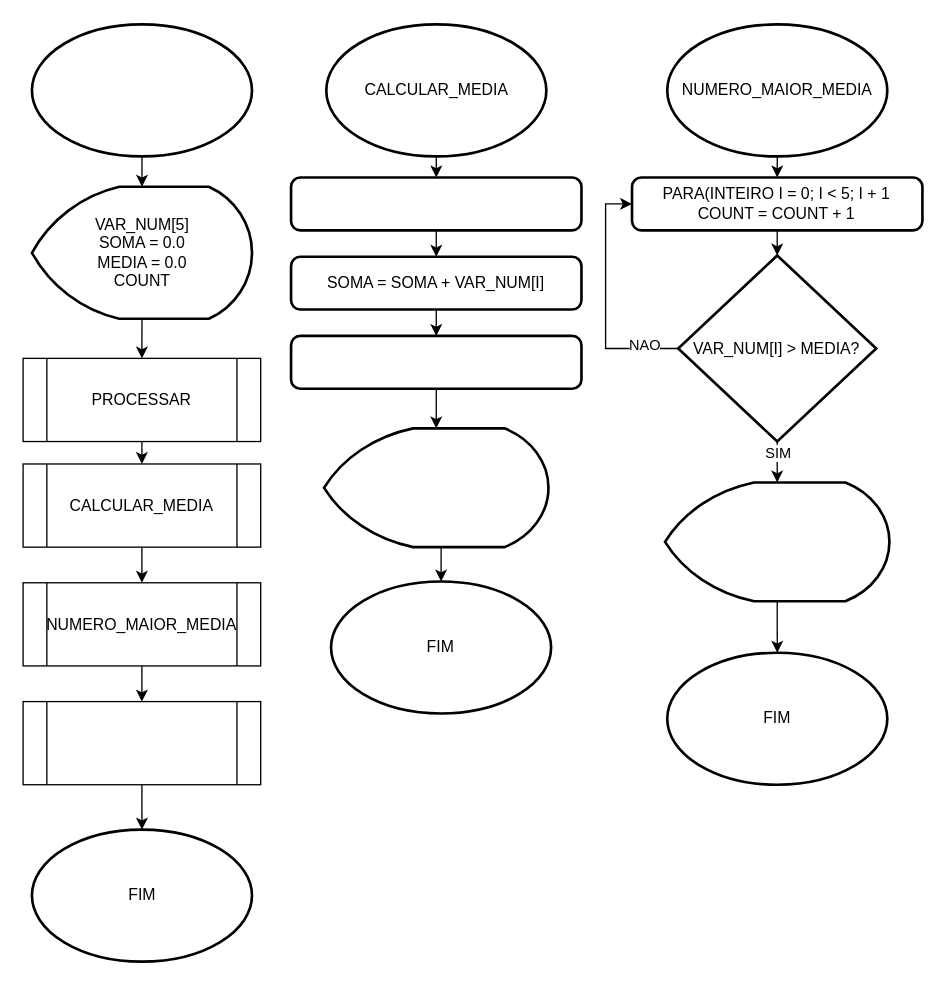
Some shapes in this 946 by 985 pixel diagram are drawn without their labels. The box of each missing label's shape, as (x1, y1, x2, y2) in pixels:
FINALIZAR: (22, 700, 261, 785)
INICIO: (30, 22, 253, 157)
MEDIA: (322, 426, 549, 548)
MÍDIA = SOMA / 5: (289, 334, 582, 389)
PARA(INTEIRO I = 0; I < 5; I + 1: (289, 176, 582, 231)
VAR_NUM[I]: (663, 480, 890, 602)
